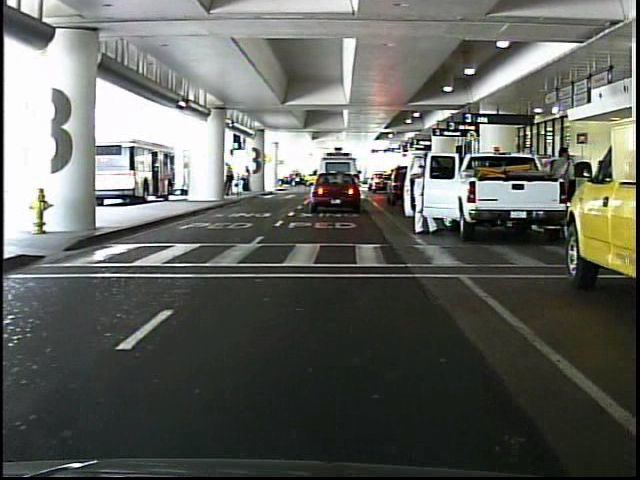person: (408, 146, 442, 238), (545, 142, 580, 221), (241, 164, 256, 195), (225, 162, 237, 198)
